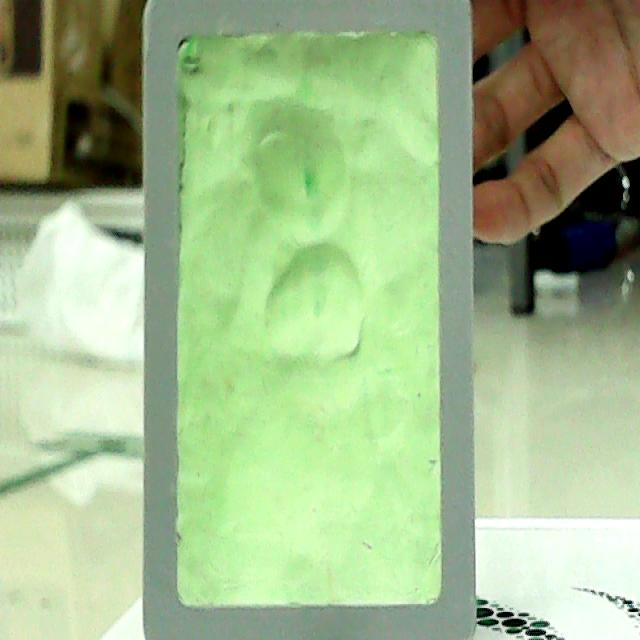block: (134, 0, 490, 639)
